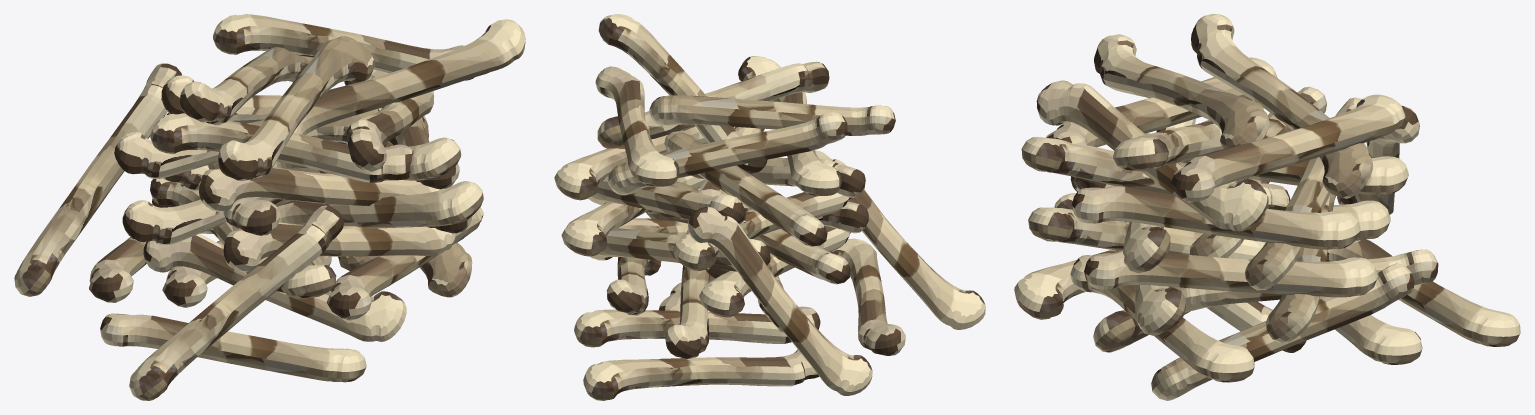
Rendered from Bones.fbx.
3 views of the same model, side by side, from view 1: azimuth 30°, elevation 25°; view 2: azimuth 150°, elevation 25°; view 3: azimuth 270°, elevation 25° (orthographic). The views are drawn at different scales.
Parts seen in each view (by area): view 1: Bone.026, Bone.016, Bone.024, Bone.025, Bone.017, Bone.013, Bone, Bone.023, Bone.015, Bone.011, Bone.007, Bone.014 (+15 smaller); view 2: Bone.024, Bone.027, Bone.017, Bone.014, Bone.026, Bone.001, Bone.016, Bone.015, Bone.018, Bone.012, Bone.025, Bone.021 (+14 smaller); view 3: Bone.015, Bone.020, Bone.008, Bone.014, Bone.012, Bone.017, Bone.002, Bone.027, Bone.003, Bone.019, Bone.007, Bone.016 (+15 smaller).
Boxes of the visible parts, <box> form: Bone.026: <box>129,205,343,400</box>; Bone.016: <box>294,19,525,135</box>; Bone.024: <box>14,63,181,296</box>; Bone.025: <box>100,313,366,382</box>; Bone.017: <box>218,36,374,181</box>; Bone.013: <box>150,113,413,182</box>; Bone: <box>143,233,406,341</box>; Bone.023: <box>199,166,450,211</box>; Bone.015: <box>213,14,474,80</box>; Bone.011: <box>223,222,455,272</box>; Bone.007: <box>277,181,483,228</box>; Bone.014: <box>180,47,313,125</box>; Bone.024: <box>688,206,872,395</box>; Bone.027: <box>583,349,819,400</box>; Bone.017: <box>649,95,895,135</box>; Bone.014: <box>608,112,847,195</box>; Bone.026: <box>815,150,985,329</box>; Bone.001: <box>574,306,820,347</box>; Bone.016: <box>598,14,767,173</box>; Bone.015: <box>595,66,679,186</box>; Bone.018: <box>664,131,827,246</box>; Bone.012: <box>597,61,829,148</box>; Bone.025: <box>831,238,905,355</box>; Bone.021: <box>588,175,745,224</box>; Bone.015: <box>1171,94,1405,202</box>; Bone.020: <box>1072,186,1360,249</box>; Bone.008: <box>1084,250,1377,297</box>; Bone.014: <box>1191,14,1373,198</box>; Bone.012: <box>1036,80,1268,231</box>; Bone.017: <box>1094,34,1269,148</box>; Bone.002: <box>1151,263,1414,400</box>; Bone.027: <box>1326,239,1520,346</box>; Bone.003: <box>1070,255,1254,382</box>; Bone.019: <box>1021,137,1290,210</box>; Bone.007: <box>1028,207,1265,259</box>; Bone.016: <box>1113,120,1223,171</box>.
Size of the model in its own units: 366 by 232 by 371.
28 materials, 28 textured.
